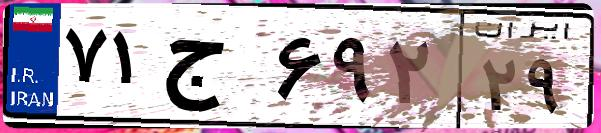1: (110, 28, 158, 98)
2: (385, 28, 445, 110), (475, 38, 525, 113)
6: (270, 28, 330, 110)
7: (57, 26, 110, 100)
9: (330, 28, 385, 110), (525, 38, 570, 115)
ج: (158, 20, 270, 120)
